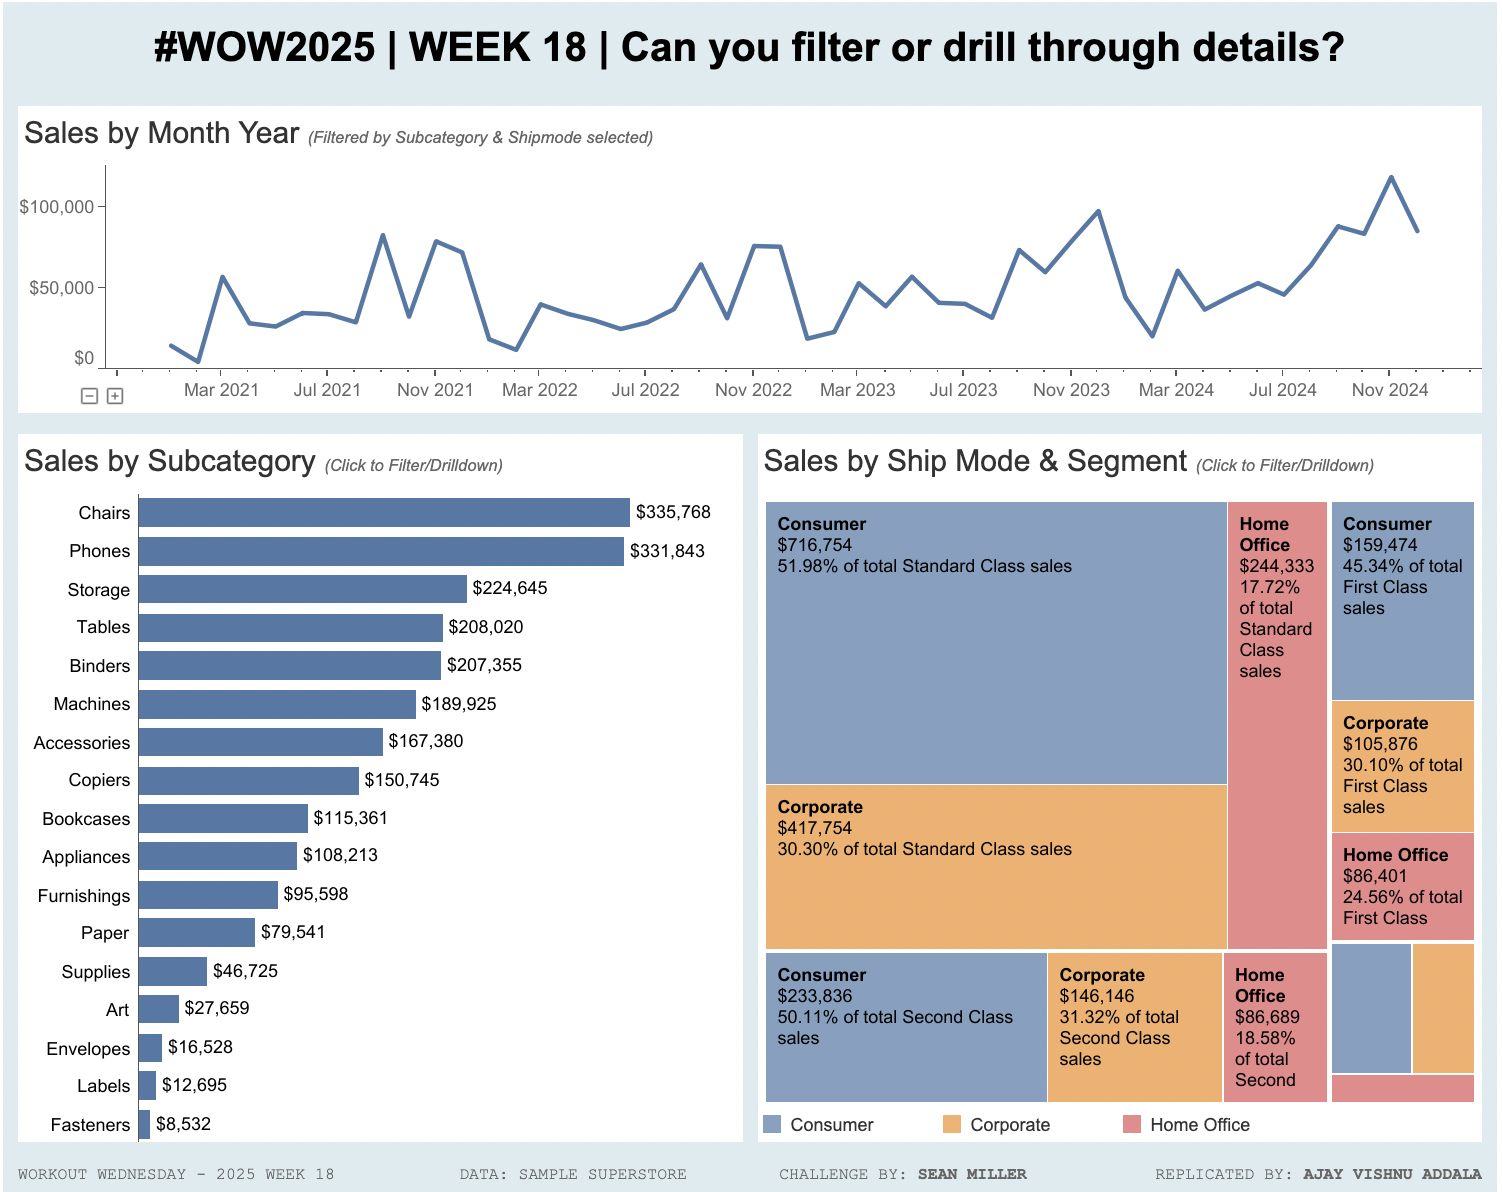

The page's visual inventory and layout, read from the dashboard file:
{"tool":"tableau","page":{"name":"WOW2025 W18","canvas":[1000,800],"ordinal":0},"visuals":[{"type":"text","box":[2,2,996,59]},{"type":"worksheet","title":"Sales - Line Chart","mark":"Automatic","rows":["Sales"],"cols":["Order Date"],"box":[2,61,996,225.1]},{"type":"worksheet","title":"Drill Through Table","mark":"Automatic","rows":["Order ID","Customer Name","Order Date","Ship Date","Product Name"],"box":[105,135,809,541]},{"type":"worksheet","title":"Close","mark":"Shape","box":[870,135,40,40]},{"type":"worksheet","title":"Sub Cat - Bar","mark":"Automatic","rows":["Sub-Category"],"cols":["Sales"],"box":[2,286.1,498,479.9]},{"type":"worksheet","title":"Ship Mode & Segment - Tree","mark":"Automatic","box":[500,286.1,498,453.7]},{"type":"legend","title":"Ship Mode & Segment - Tree","param":"[federated.0qhk1ow0t9iavw165nyf200arbeo].[none:Segment:nk]","box":[500,739.8,498,26.2]},{"type":"text","box":[2,766,270,32]},{"type":"text","box":[272,766,220,32]},{"type":"text","box":[492,766,220,32]},{"type":"text","box":[712,766,286,32]}]}

Visuals, with their boxes in screenshot pixels (x1, y1, x2, y2), scaled from the page's 1000x800 canvas onto the 1502x1192 screenshot:
text: [3, 3, 1499, 91]
"Sales - Line Chart" worksheet: [3, 91, 1499, 426]
"Drill Through Table" worksheet: [158, 201, 1373, 1007]
"Close" worksheet (Shape marks): [1307, 201, 1367, 261]
"Sub Cat - Bar" worksheet: [3, 426, 751, 1141]
"Ship Mode & Segment - Tree" worksheet: [751, 426, 1499, 1102]
"Ship Mode & Segment - Tree" legend: [751, 1102, 1499, 1141]
text: [3, 1141, 409, 1189]
text: [409, 1141, 739, 1189]
text: [739, 1141, 1069, 1189]
text: [1069, 1141, 1499, 1189]
